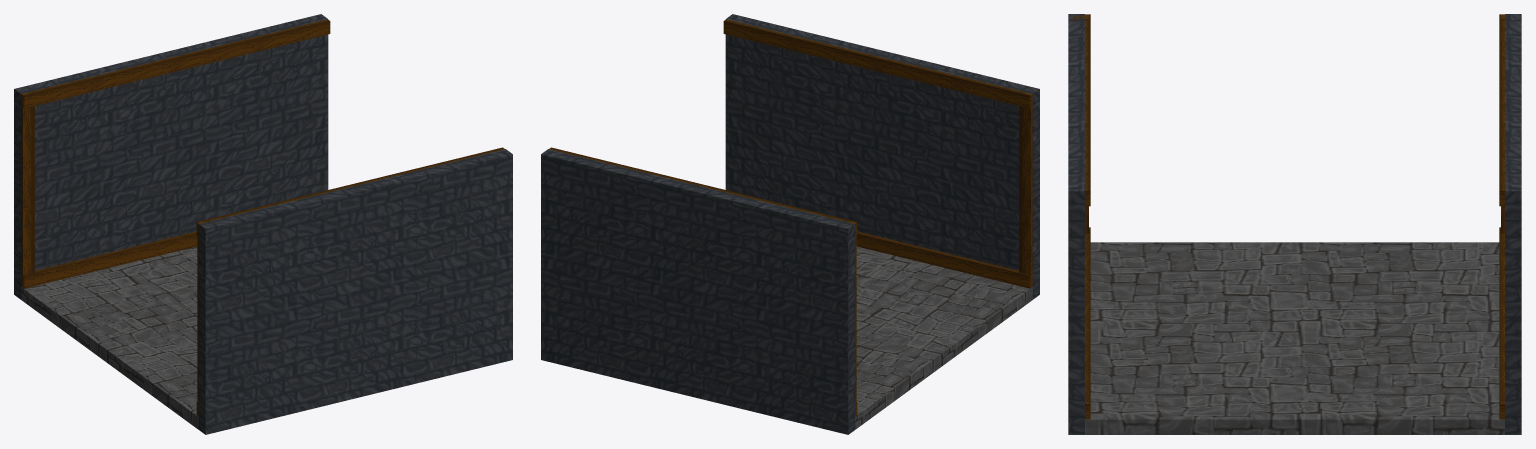
Rendered from Flur V1.fbx.
3 renders of one model, left to right at view 1: azimuth 30°, elevation 25°; view 2: azimuth 150°, elevation 25°; view 3: azimuth 270°, elevation 25°, orthographic. The views are drawn at different scales.
Visible parts, largest first — view 1: Flur V1.002, Flur V1.001, Flur V1; view 2: Flur V1.001, Flur V1.002, Flur V1; view 3: Flur V1, Flur V1.001, Flur V1.002.
Boxes of the visible parts, bbox=[...] form: Flur V1.002: bbox=[196, 147, 512, 434]; Flur V1.001: bbox=[14, 14, 330, 299]; Flur V1: bbox=[21, 246, 198, 429]; Flur V1.001: bbox=[541, 147, 857, 434]; Flur V1.002: bbox=[723, 14, 1039, 299]; Flur V1: bbox=[855, 246, 1032, 429]; Flur V1: bbox=[1085, 242, 1504, 434]; Flur V1.001: bbox=[1499, 14, 1521, 434]; Flur V1.002: bbox=[1068, 14, 1090, 434].
Size of the model in its own units: 500 by 540 by 320.
Materials: 1 (1 with a texture image).
